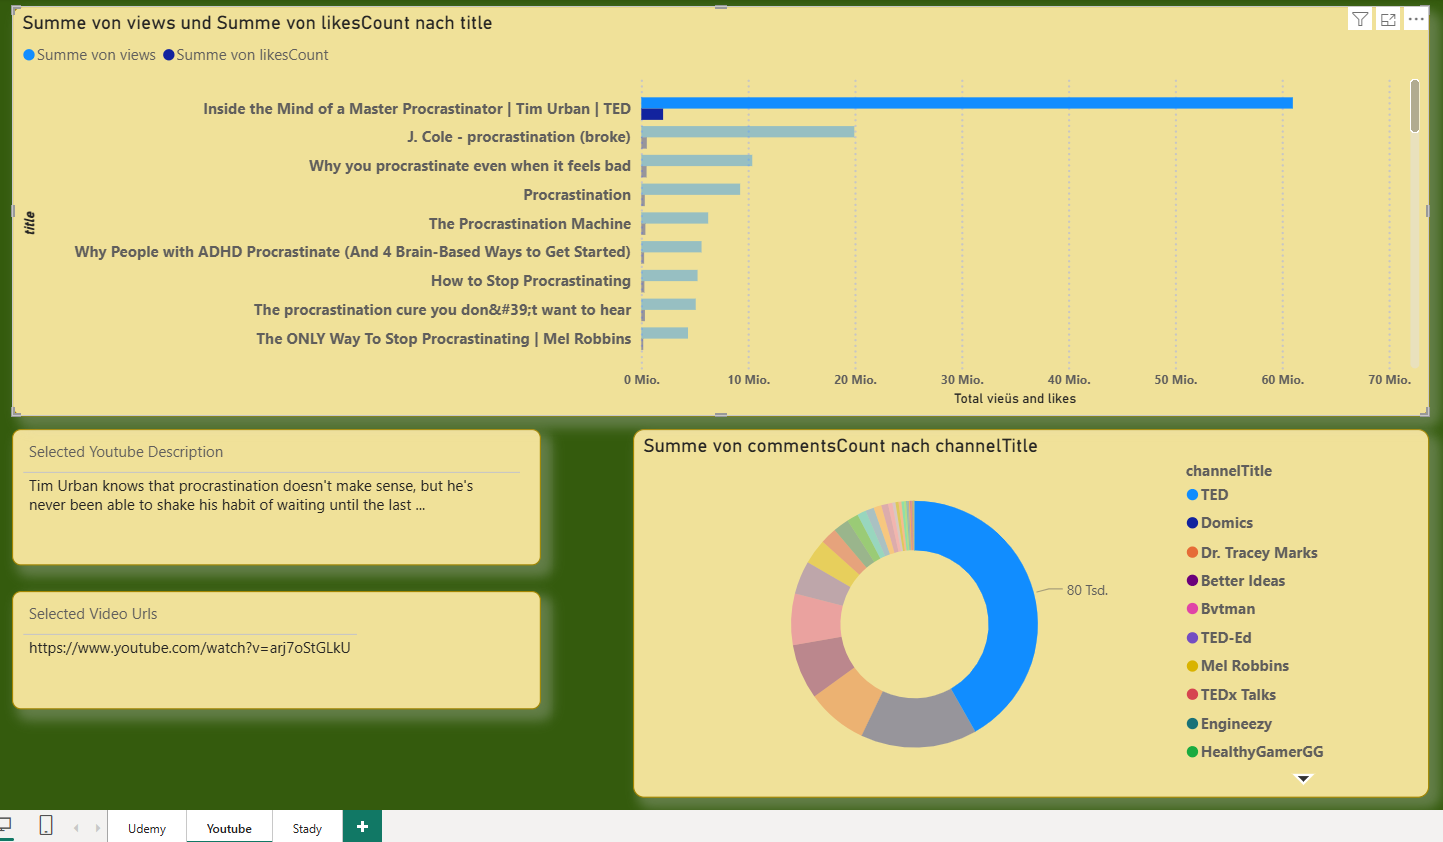

This screenshot's page, from the dashboard's own definition file:
{"tool":"powerbi","page":{"name":"Youtube","canvas":[1280,720],"ordinal":1},"visuals":[{"type":"clusteredBarChart","fields":{"Category":["poyoutube_statistic_Procrastination.title"],"Y":["Sum(poyoutube_statistic_Procrastination.views)","Sum(poyoutube_statistic_Procrastination.likesCount)"]},"box":[10.6,6.7,1257,363.7],"z":0},{"type":"donutChart","fields":{"Category":["poyoutube_statistic_Procrastination.channelTitle"],"Y":["Sum(poyoutube_statistic_Procrastination.commentsCount)"]},"box":[561.3,381.9,706.2,327.2],"z":1},{"type":"tableEx","fields":{"Values":["Measure.Selected Youtube Description"]},"box":[10.6,381.9,469.2,120.9],"z":2},{"type":"tableEx","fields":{"Values":["Maesuers.Selected Video Urls"]},"box":[10.6,525.8,469.2,104.6],"z":3}]}

Visuals, with their boxes on the page's 1280x720 design canvas (x1, y1, x2, y2). These are canvas units, not pixel positions in the 1443x842 screenshot, which may show the page scaled, cropped or inside an application window:
clusteredBarChart - poyoutube_statistic_Procrastination.title x Sum(poyoutube_statistic_Procrastination.views): (11,7,1268,370)
donutChart - poyoutube_statistic_Procrastination.channelTitle x Sum(poyoutube_statistic_Procrastination.commentsCount): (561,382,1268,709)
tableEx - Measure.Selected Youtube Description: (11,382,480,503)
tableEx - Maesuers.Selected Video Urls: (11,526,480,630)
